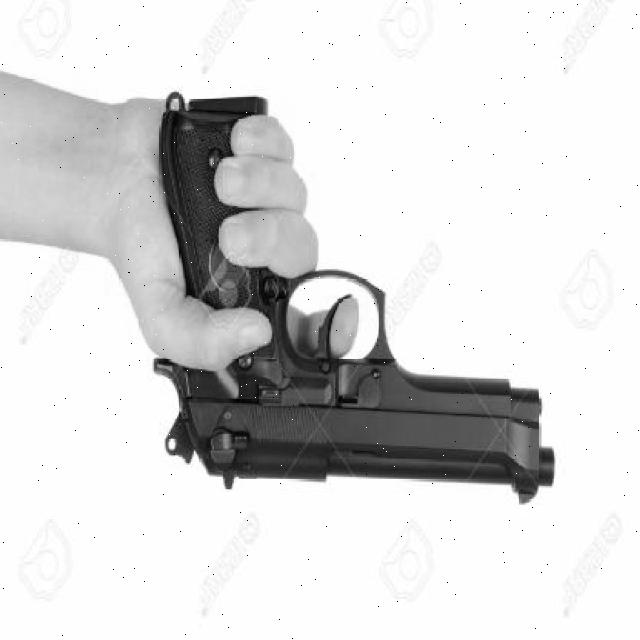gun: (104, 64, 577, 528)
